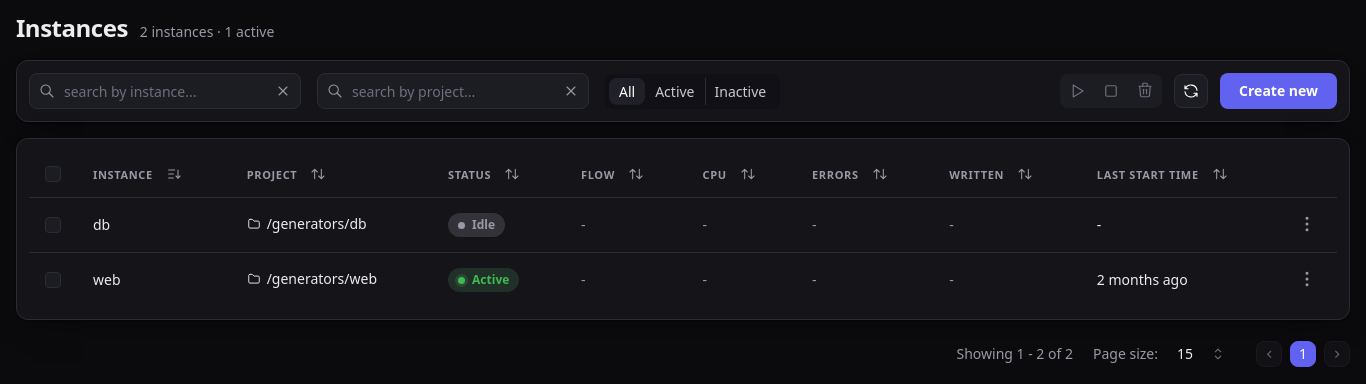
Scenario: InstancesPage › filters the list by instance name
This screenshot has width=1366, height=384.
Type "web" into the field with placeholder "search by instance...".
click(165, 91); type("web")  # box [29,73,301,109]
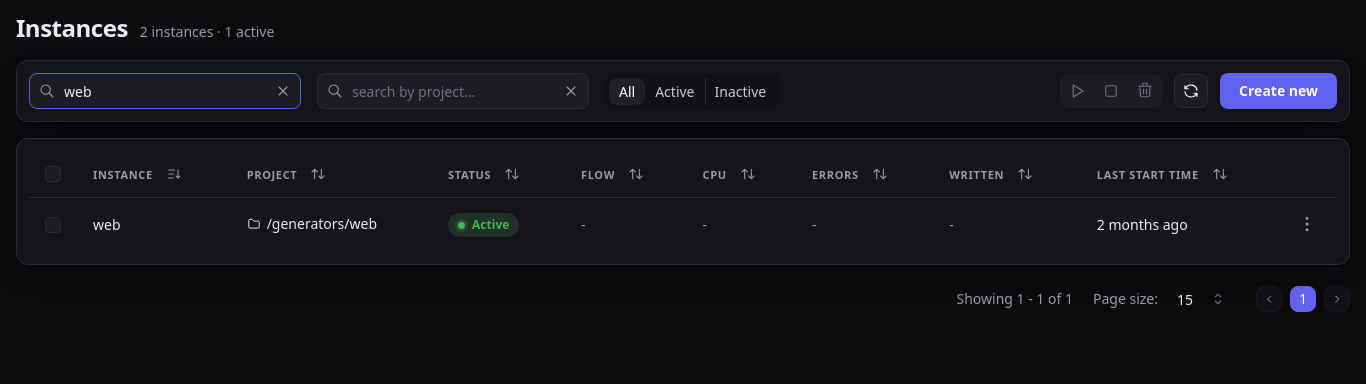
Expected: the row "web /generators/web Active - - - - 2 months ago" is shown, [29,198,1337,252]
Result: the link "db" is gone
